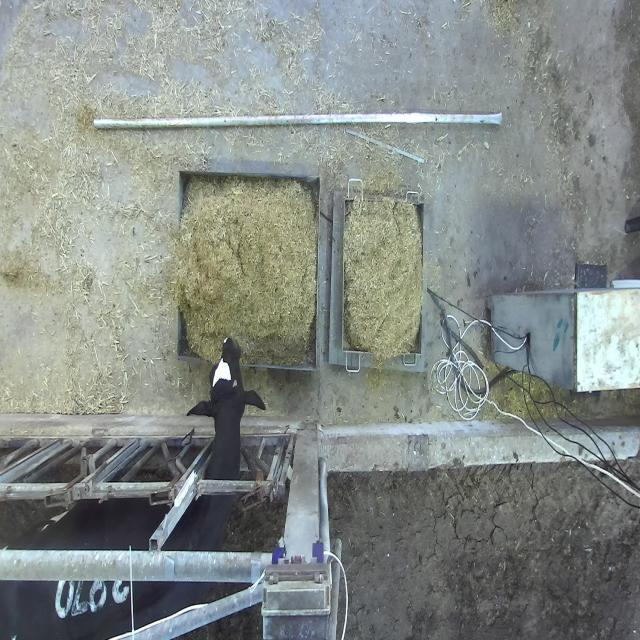cow: (185, 336, 266, 420)
